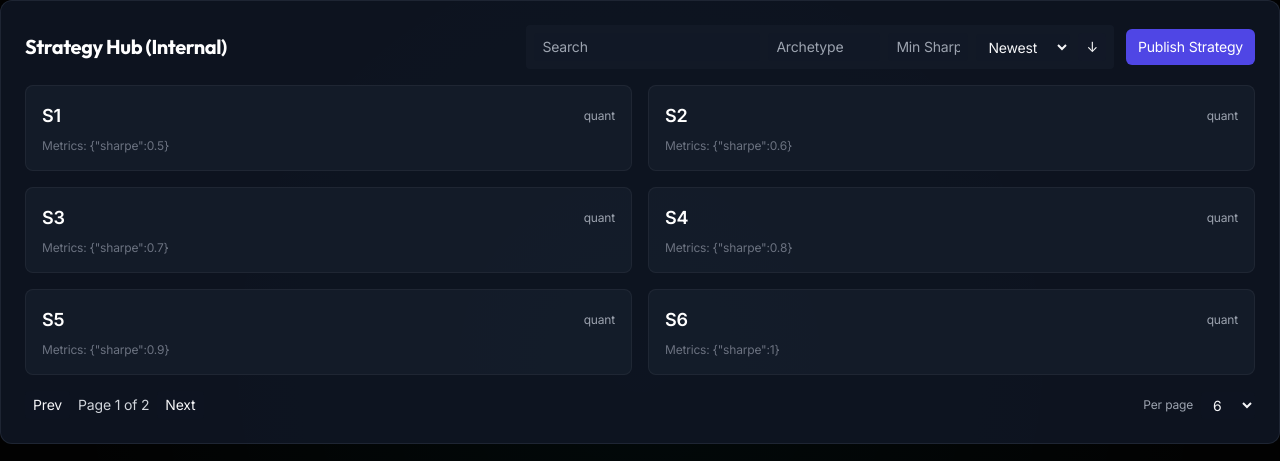
Test: StrategyHub › renders and paginates
The width and height of the screenshot is (1280, 461).
expect the text "S1" is shown: met, box [42,102,61,130]
Click next page
Step 1. Click the button "Next" → (180, 405), box [157,391,204,419]
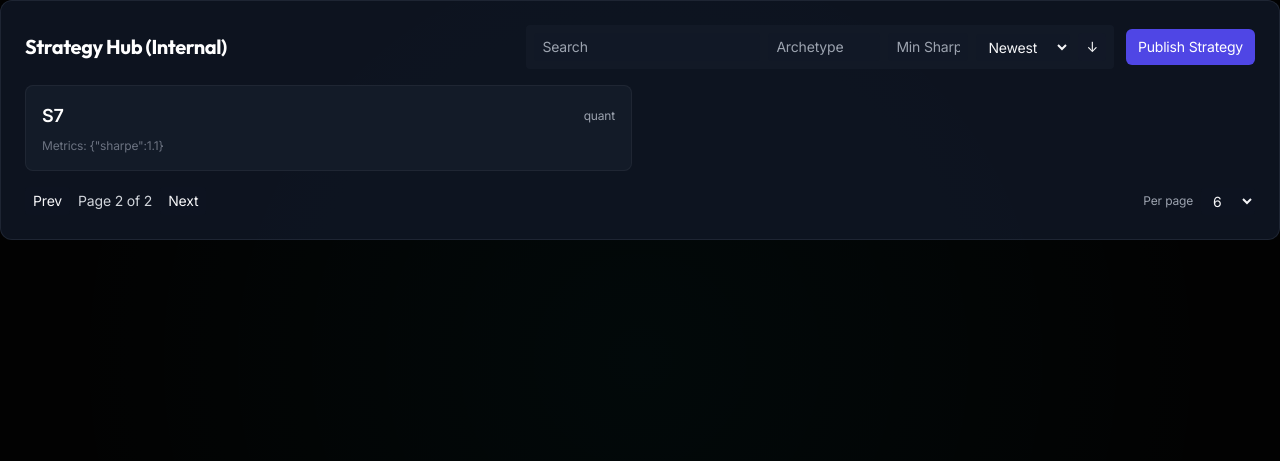
expect the text "S7" is shown: met, box [42,102,64,130]
